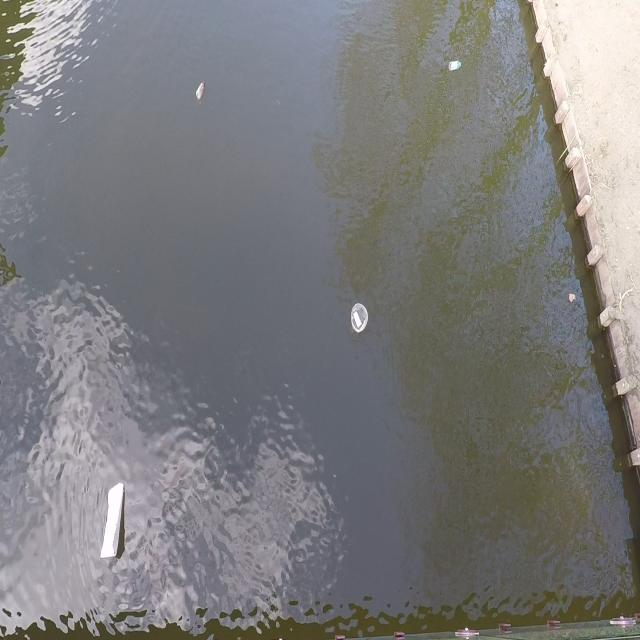Autre plastique: (96, 478, 130, 571), (345, 299, 371, 336)
Bouteille plastique: (192, 75, 208, 105), (445, 53, 466, 73)
